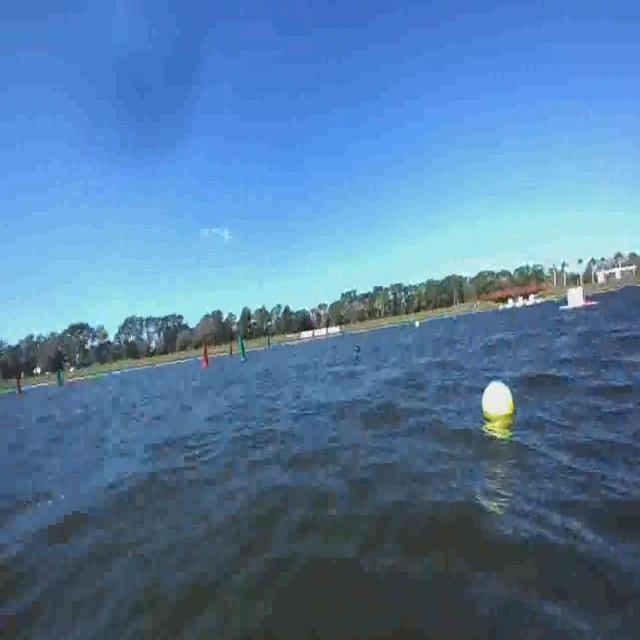black-buoy: (354, 342, 359, 350)
green-column-buoy: (240, 334, 248, 360), (58, 368, 66, 392), (268, 333, 273, 352)
red-column-buoy: (14, 367, 24, 398), (202, 338, 211, 368), (228, 340, 233, 359)
yellow-buoy: (482, 381, 514, 423), (414, 316, 422, 329)
